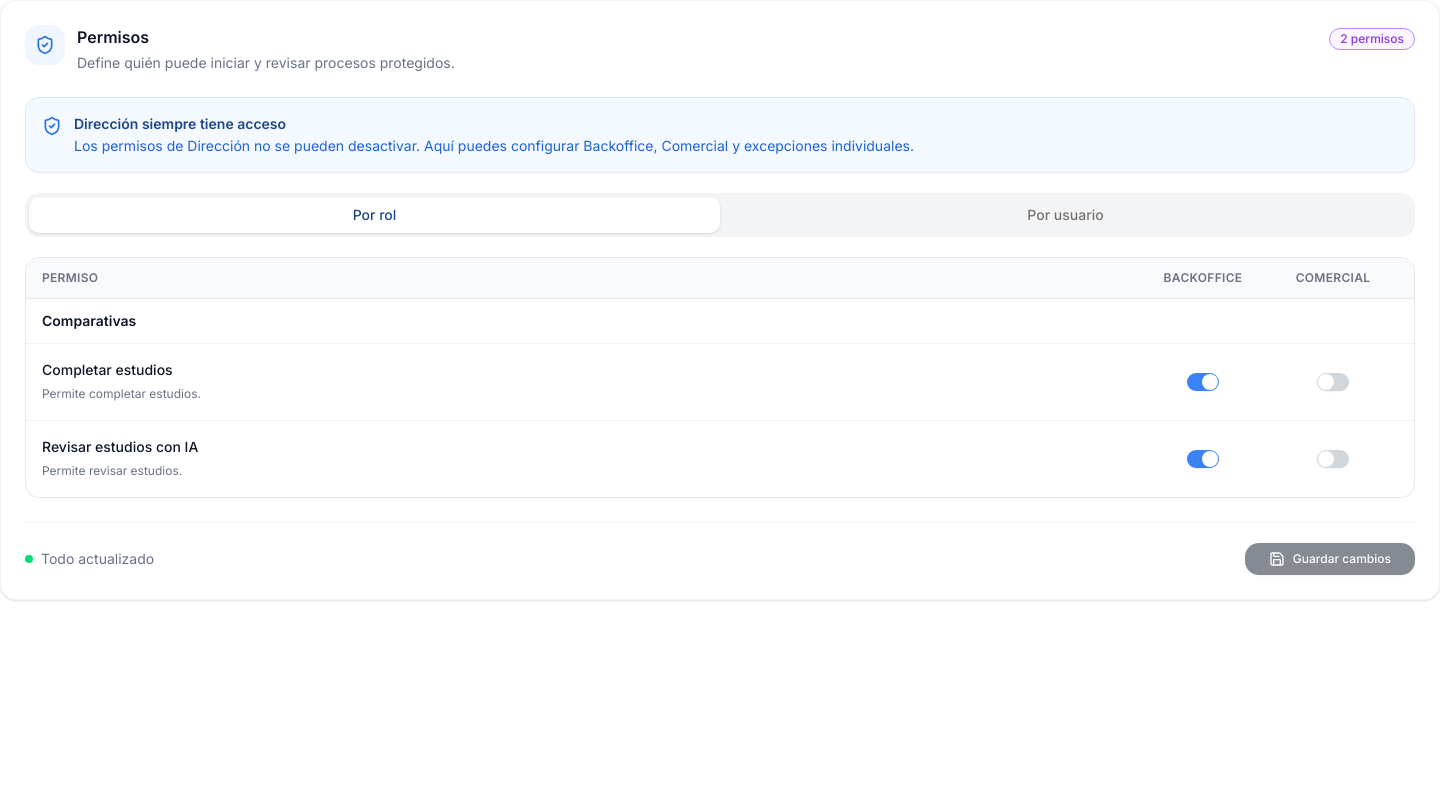
PermissionsSection › keeps matching stored overrides personalized and resets them with null
What coordinates should you click on to do the following:
click the tab "Por usuario"
I would click on:
 (1066, 215)
Its box is top-left (720, 197), bottom-right (1411, 233).
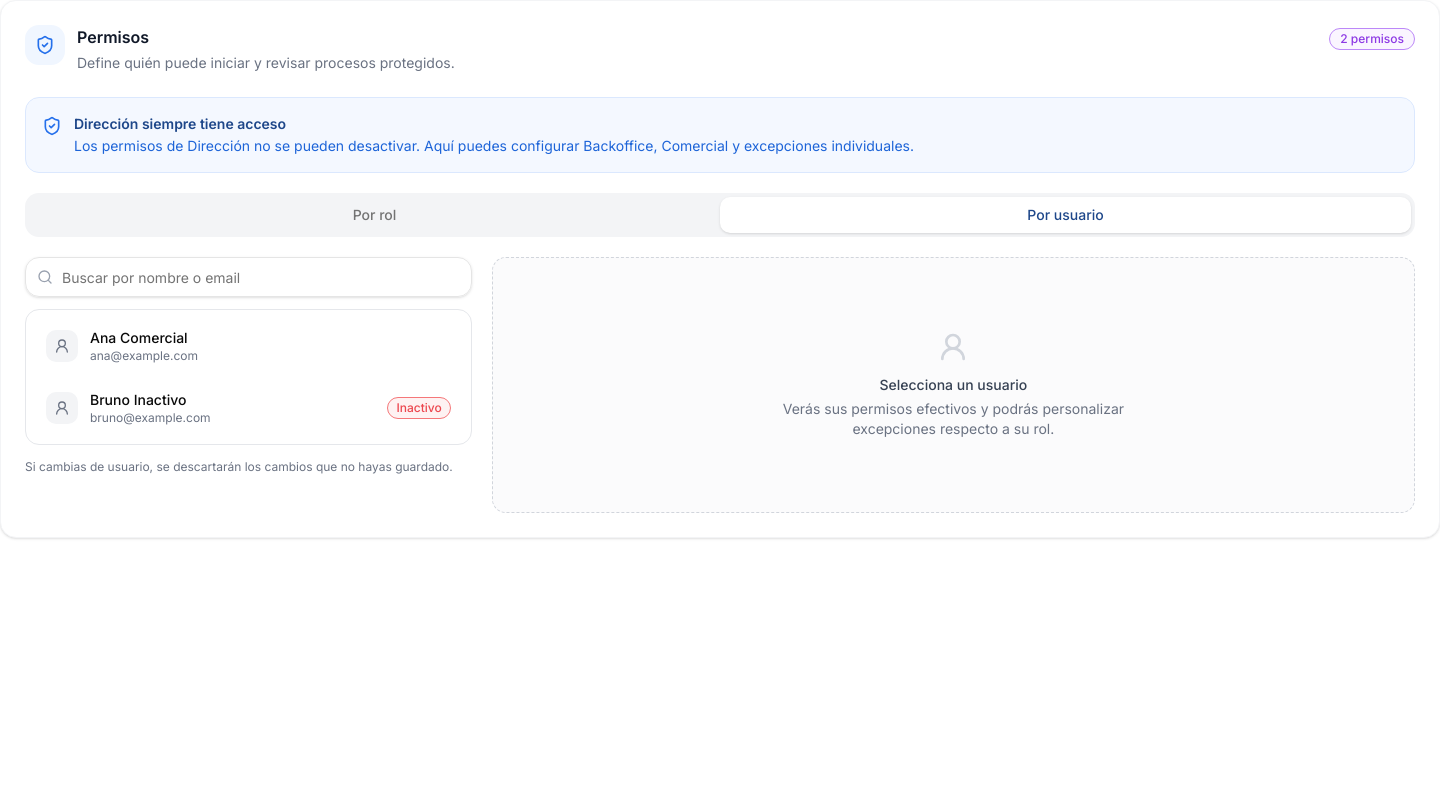
What coordinates should you click on to do the following:
click the button "Bruno Inactivo bruno@example.com Inactivo"
I would click on:
 (62, 408)
Its box is top-left (34, 380), bottom-right (463, 436).
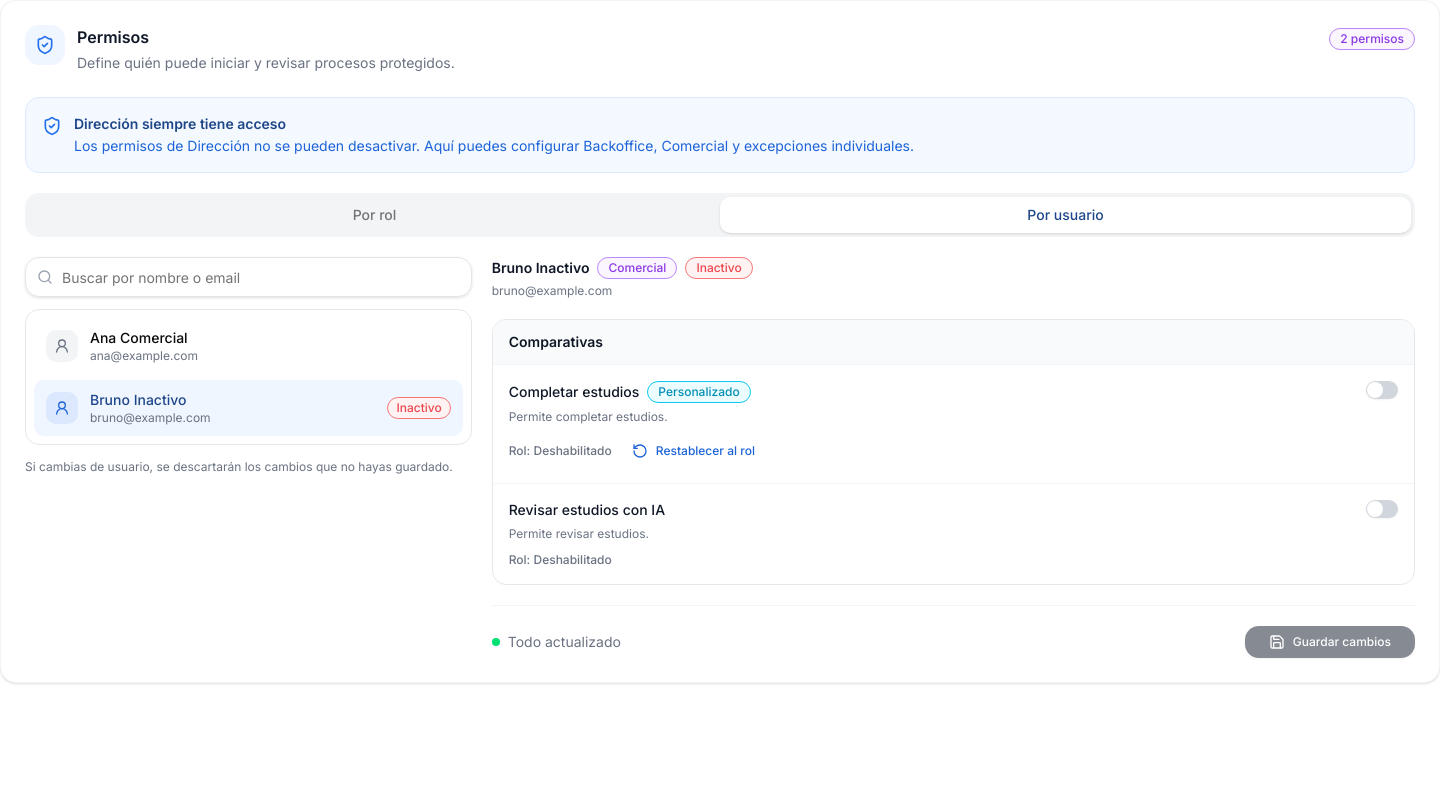
Expected: the text "Completar estudios" is shown, top-left (509, 383), bottom-right (639, 400)
Expected: the text "Personalizado" is shown, top-left (647, 381), bottom-right (751, 403)
Expected: the text "Rol: Deshabilitado" below "Permite completar estudios." is shown, top-left (509, 443), bottom-right (612, 459)
What coordinates should you click on to do the following:
click the button with aria-label "Restablecer Completar estudios al rol"
I would click on:
 (693, 451)
Its box is top-left (624, 435), bottom-right (763, 467).
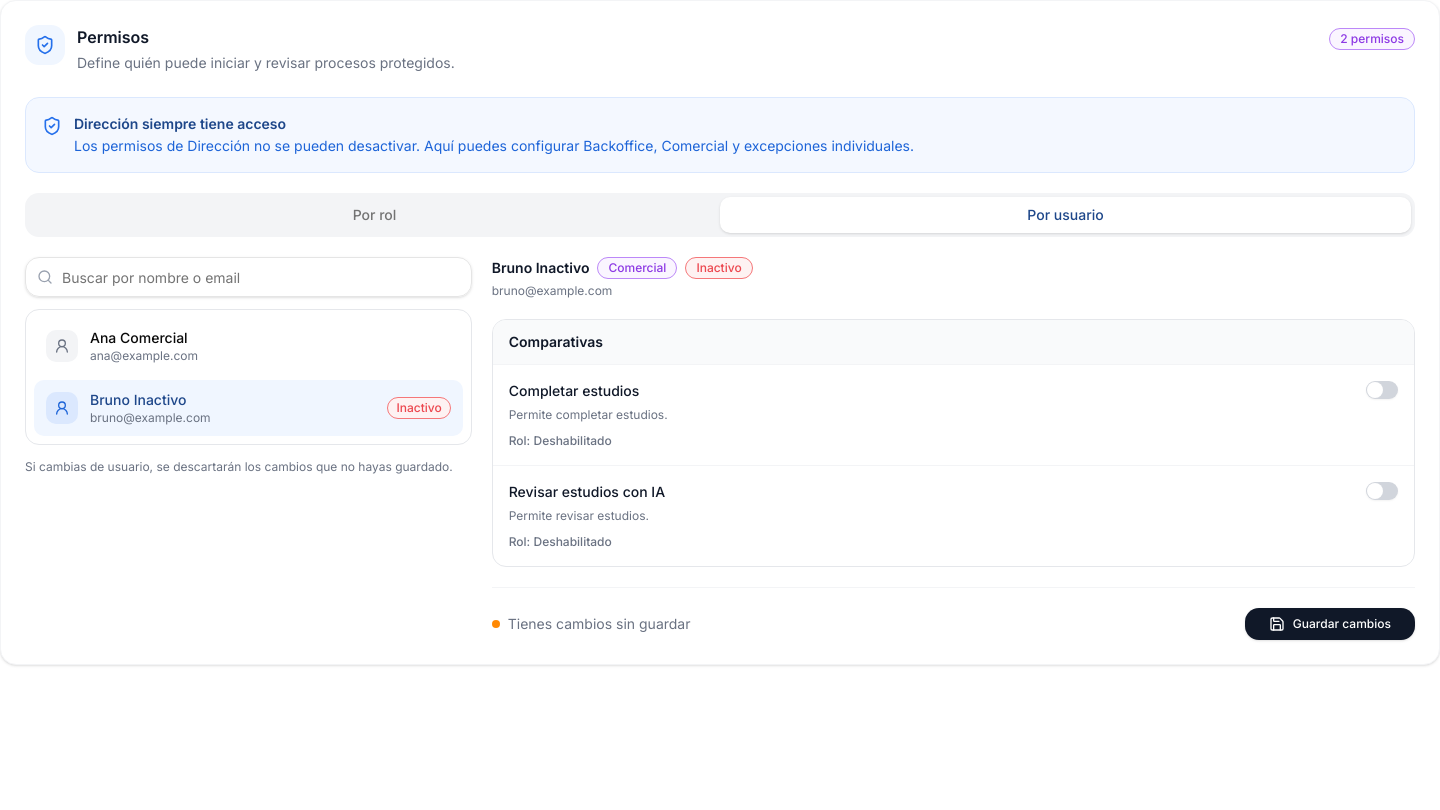
What coordinates should you click on to do the following:
click the button with aria-label "Guardar cambios de usuario"
I would click on:
 (1330, 624)
Its box is top-left (1245, 608), bottom-right (1415, 640).
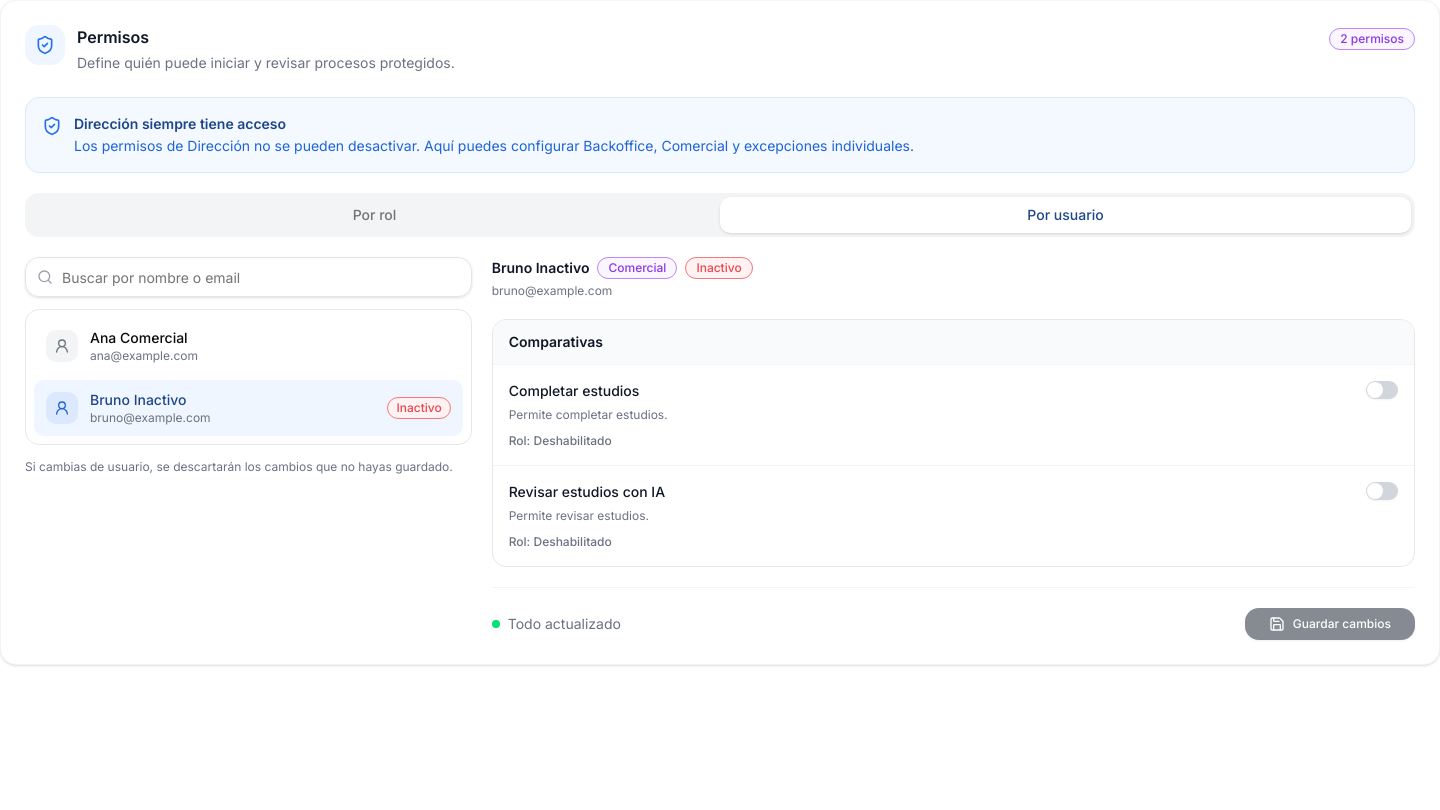
Expected: the button with aria-label "Guardar cambios de usuario" is disabled, top-left (1245, 608), bottom-right (1415, 640)
